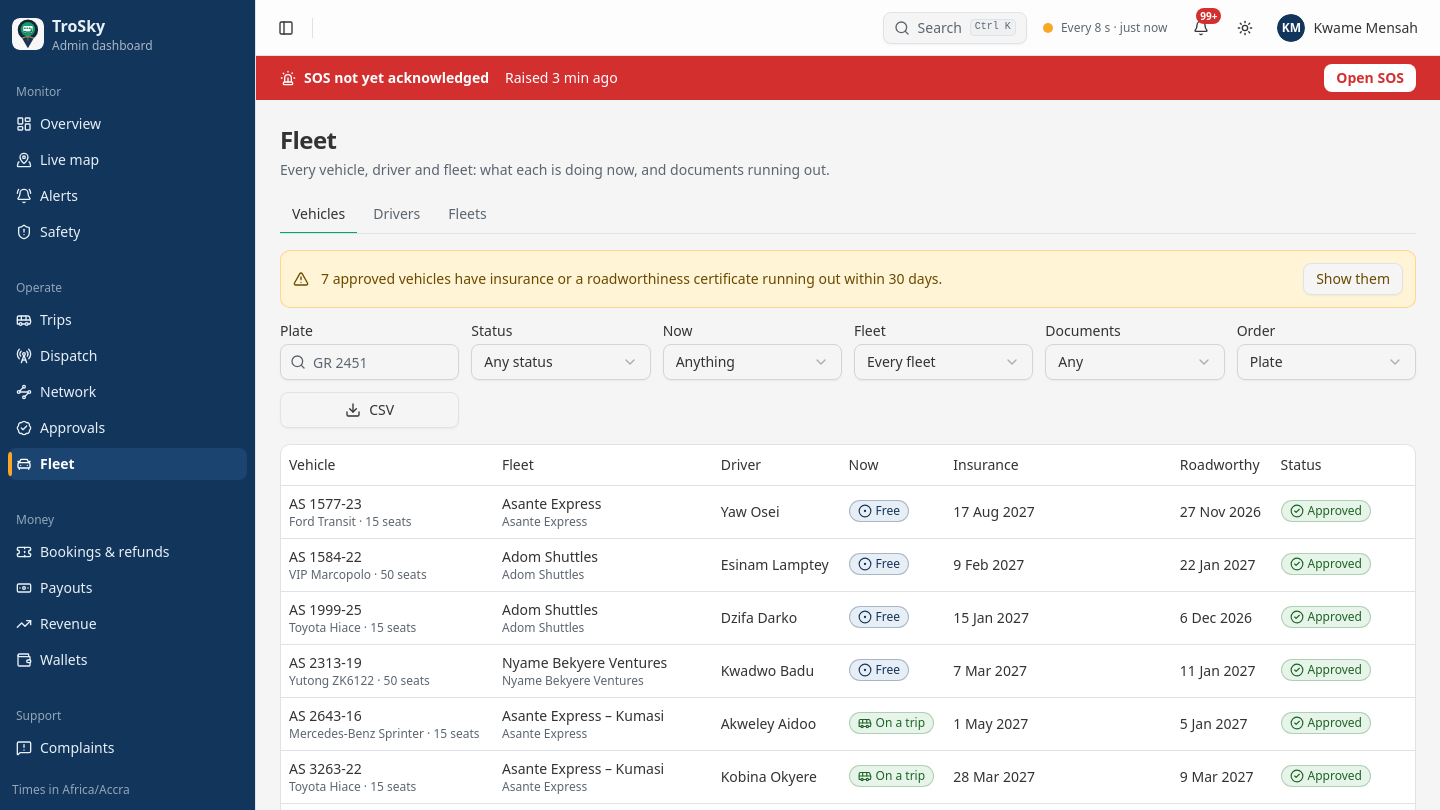
it: Fleet › lists every vehicle by plate, and filters by what it is doing now
Click the dropdown named "Now".
click(752, 362)  # box [663, 344, 842, 380]
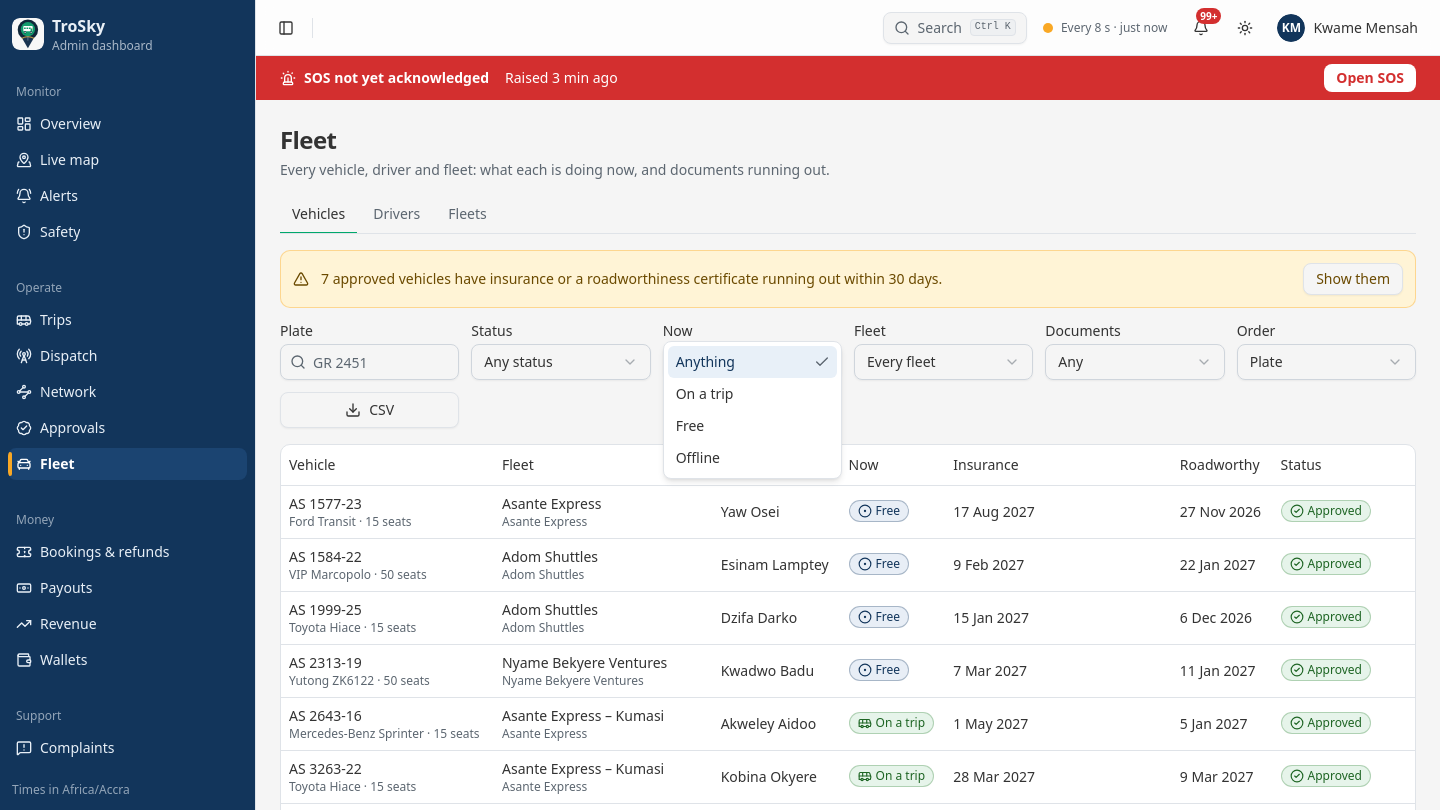
Click the option "On a trip".
click(705, 394)  # box [676, 384, 734, 403]
(page scrolled)
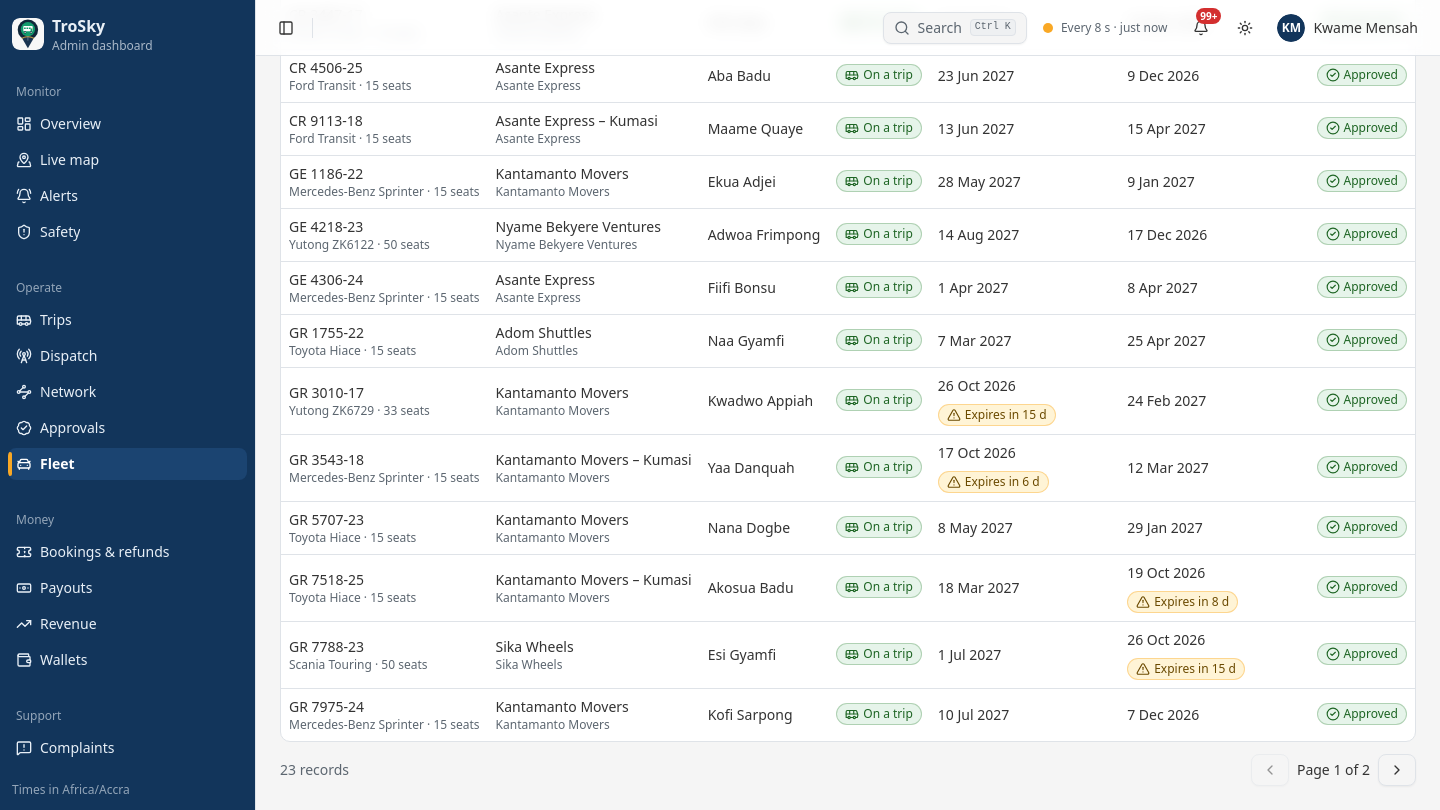
Now the row that starts with "CR 9113-18" shows "On a trip", box [836, 120, 922, 139]
Now the row that starts with "GE 1186-22" shows "On a trip", box [836, 173, 922, 192]
Now the row that starts with "GE 4218-23" shows "On a trip", box [836, 226, 922, 245]
